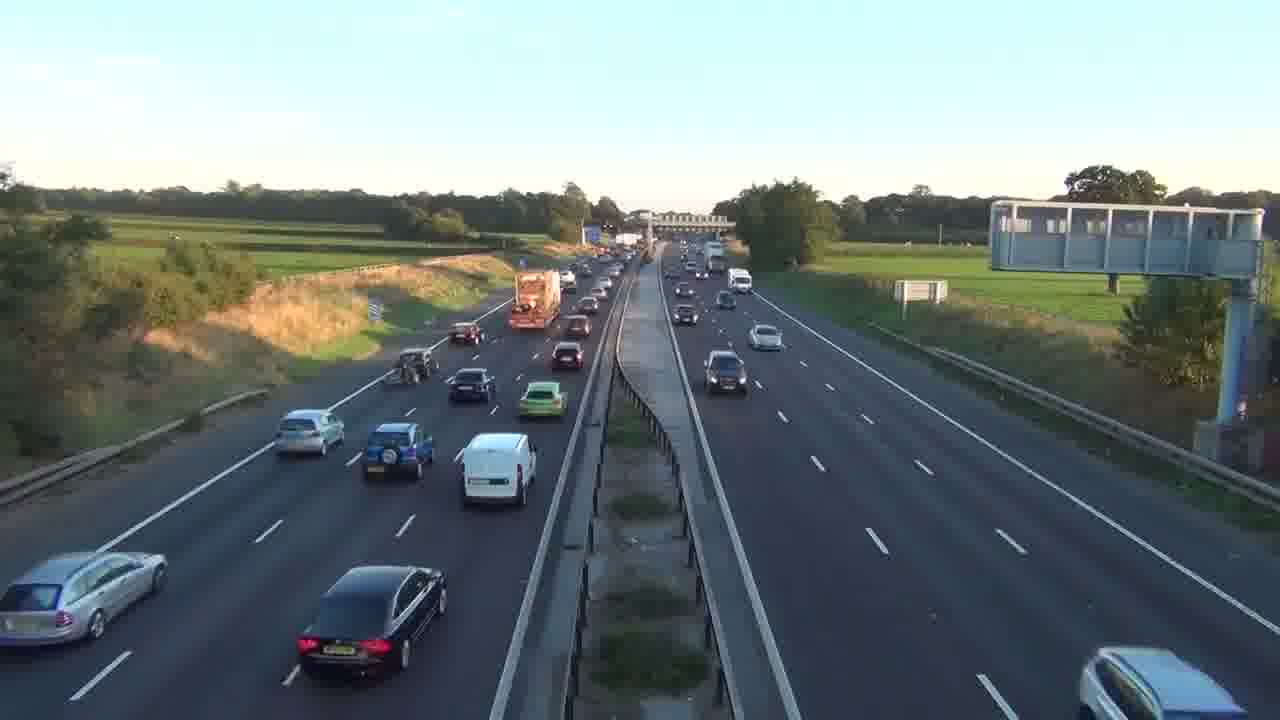car: (293, 562, 448, 682), (0, 549, 169, 649), (1077, 644, 1249, 719), (275, 409, 345, 456), (704, 349, 749, 394), (516, 380, 566, 419), (446, 367, 497, 404), (550, 340, 584, 371), (748, 324, 785, 352), (715, 289, 737, 310)
truck: (454, 431, 538, 508), (362, 420, 434, 481), (727, 267, 753, 292)
